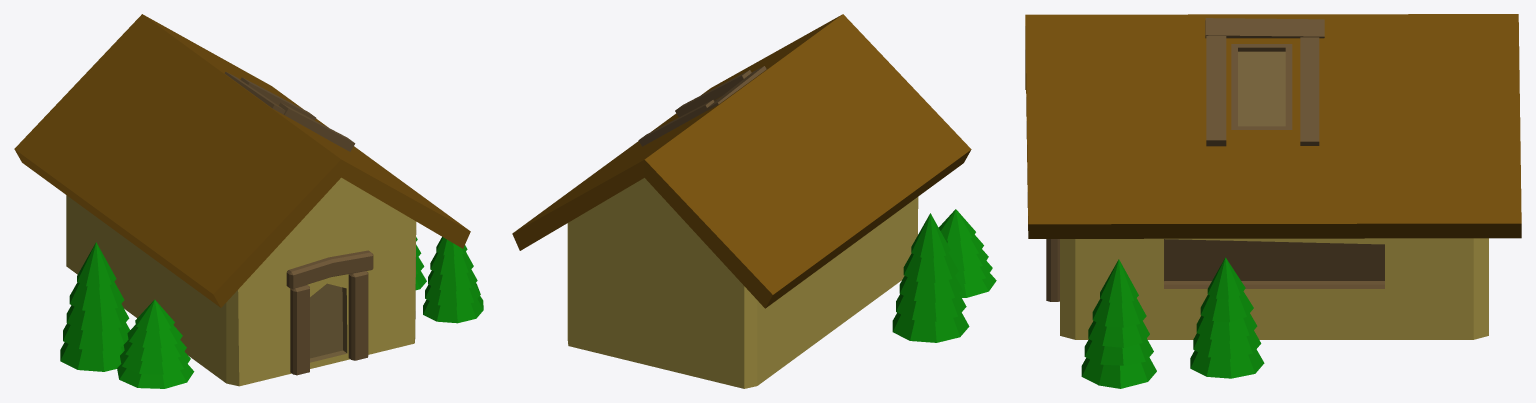
File: SideHouse2.fbx
3 views of the same model, side by side, from view 1: azimuth 30°, elevation 25°; view 2: azimuth 150°, elevation 25°; view 3: azimuth 270°, elevation 25° (orthographic). The views are drawn at different scales.
Parts seen in each view (by area): view 1: House.001, Cone.001; view 2: House.001, Cone.001; view 3: House.001, Cone.001.
Part boxes in pixels (box(x1,y1,x2,y2)): House.001: box(14, 14, 470, 386); Cone.001: box(60, 237, 483, 388); House.001: box(512, 14, 971, 388); Cone.001: box(892, 209, 996, 342); House.001: box(1025, 14, 1521, 339); Cone.001: box(1081, 257, 1264, 388).
Bounding box in the file's own units: 4403 × 2397 × 4016.
